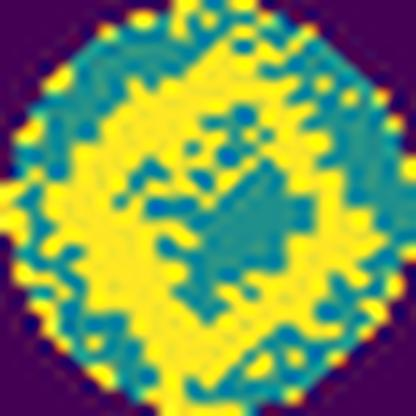Donut: (42, 29, 388, 391)
